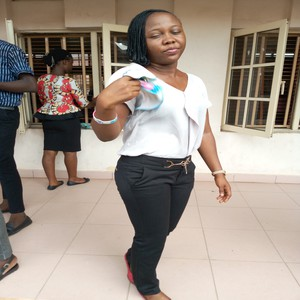Fulokoja_female_student: (129, 9, 208, 300), (38, 51, 84, 187)
